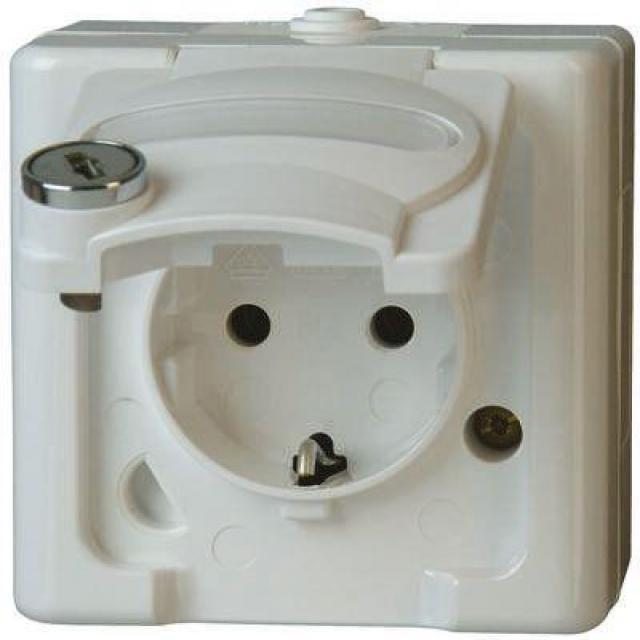typeb: (9, 24, 587, 608)
